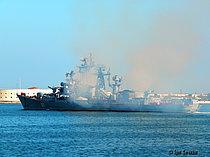MIL_Ship: (17, 51, 201, 114)
